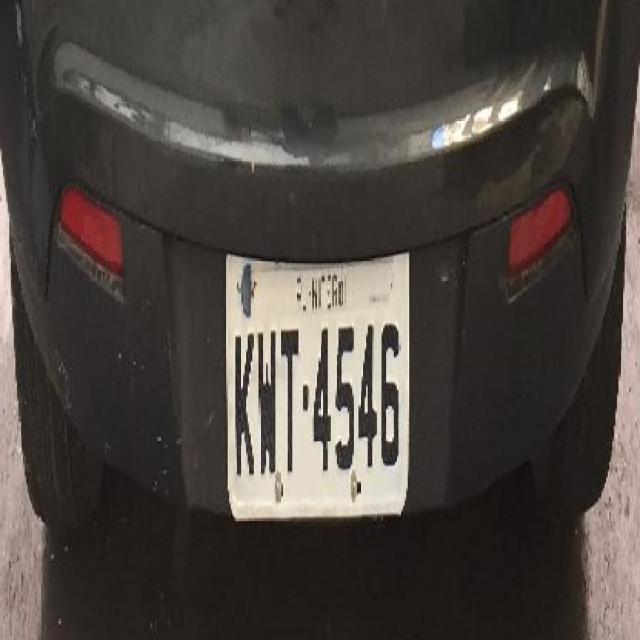old_plate: (216, 248, 424, 528)
